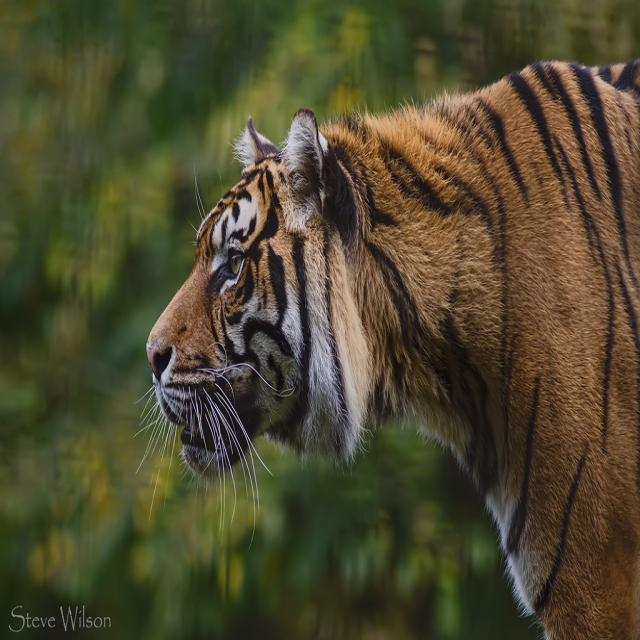Tiger: (147, 58, 639, 637)
